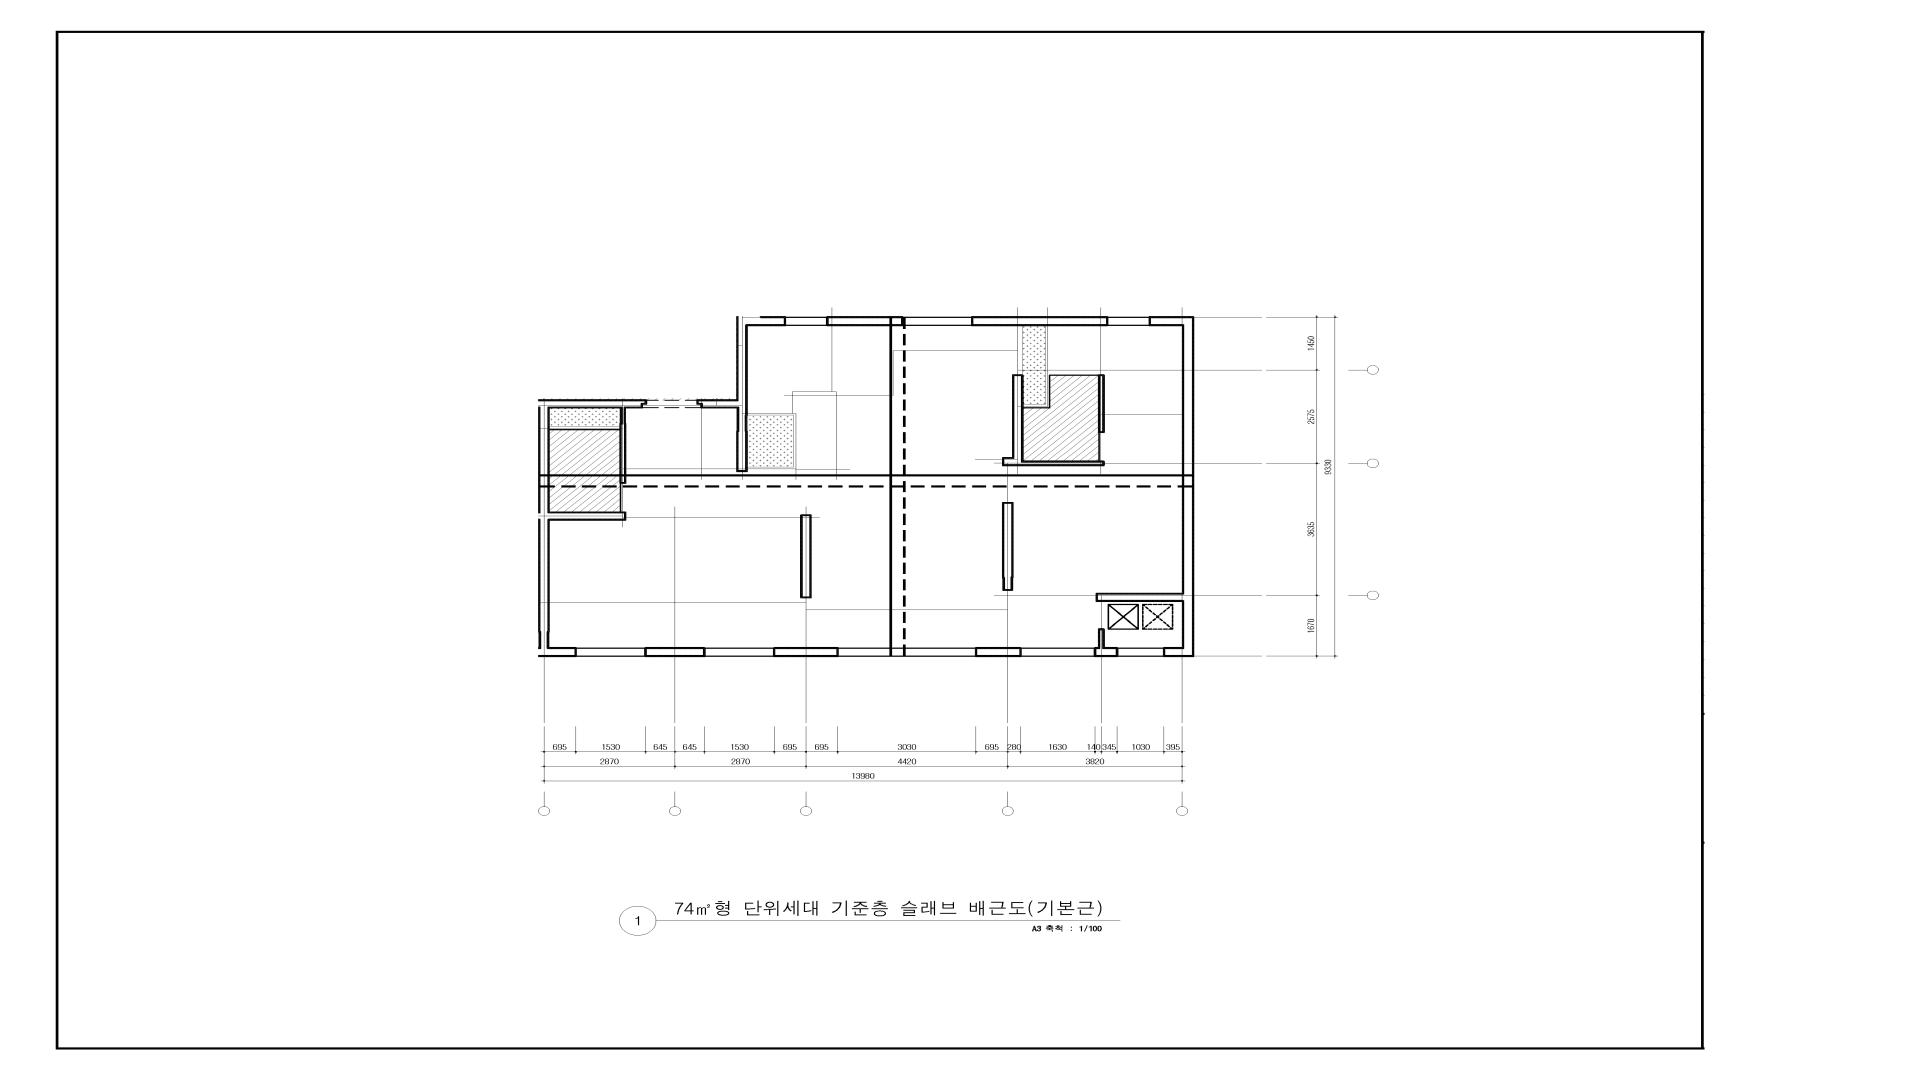wall: (1182, 326, 1195, 592), (538, 521, 550, 647), (971, 316, 1108, 327), (538, 400, 550, 512), (736, 316, 748, 409), (1002, 502, 1014, 591), (800, 514, 812, 599), (1096, 592, 1182, 603), (1013, 375, 1023, 458), (736, 409, 748, 472), (1182, 592, 1195, 647), (825, 316, 903, 326), (550, 512, 626, 521), (773, 646, 839, 657), (550, 400, 625, 409), (645, 647, 705, 657), (1023, 460, 1105, 467), (975, 647, 1022, 657), (1149, 316, 1195, 326), (620, 423, 626, 484), (1098, 375, 1105, 433), (696, 400, 737, 409), (538, 647, 576, 657), (748, 316, 786, 326), (1163, 646, 1195, 657), (1095, 647, 1118, 657), (625, 400, 647, 409), (1002, 458, 1023, 467), (1098, 628, 1105, 647), (538, 512, 550, 521), (620, 409, 626, 423)
